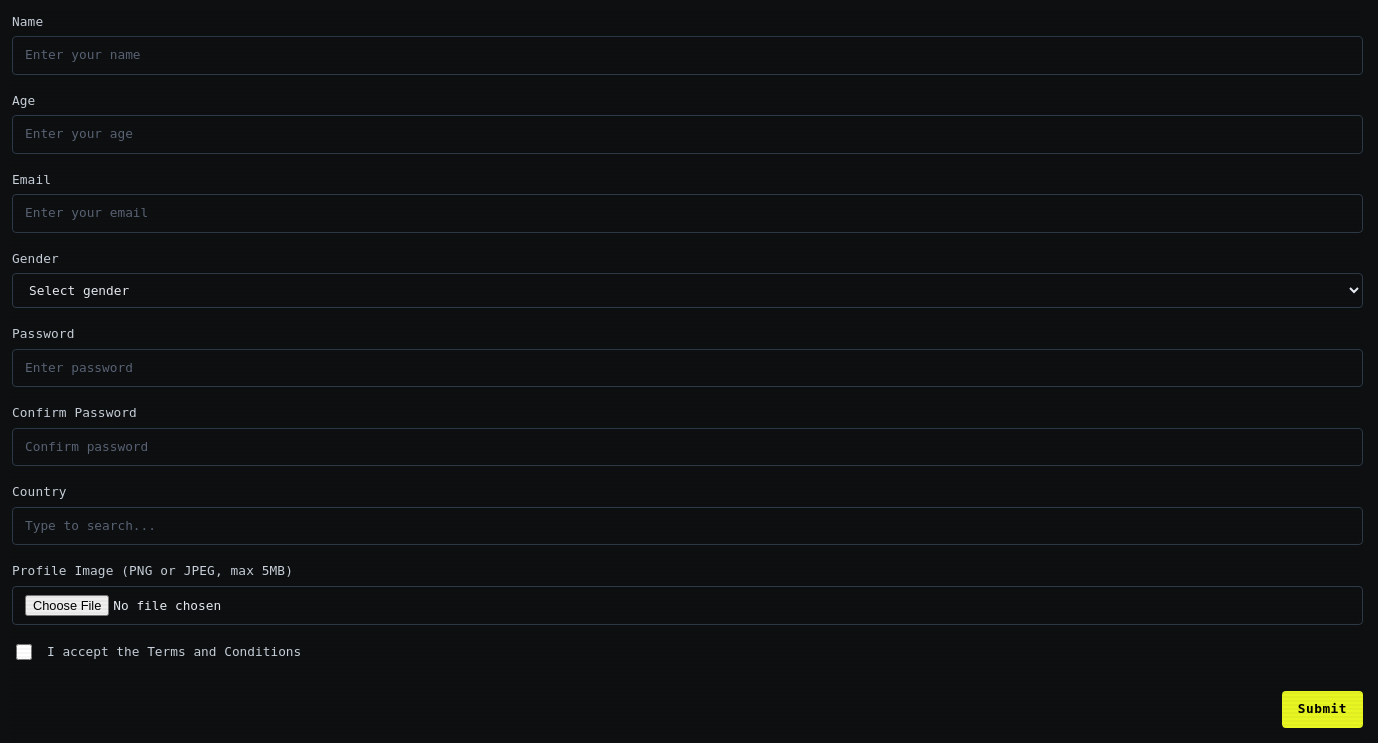
Test case: UncontrolledForm › shows validation errors on empty submit
Click the button "Submit".
click(1322, 709)  # box [1282,691,1363,728]
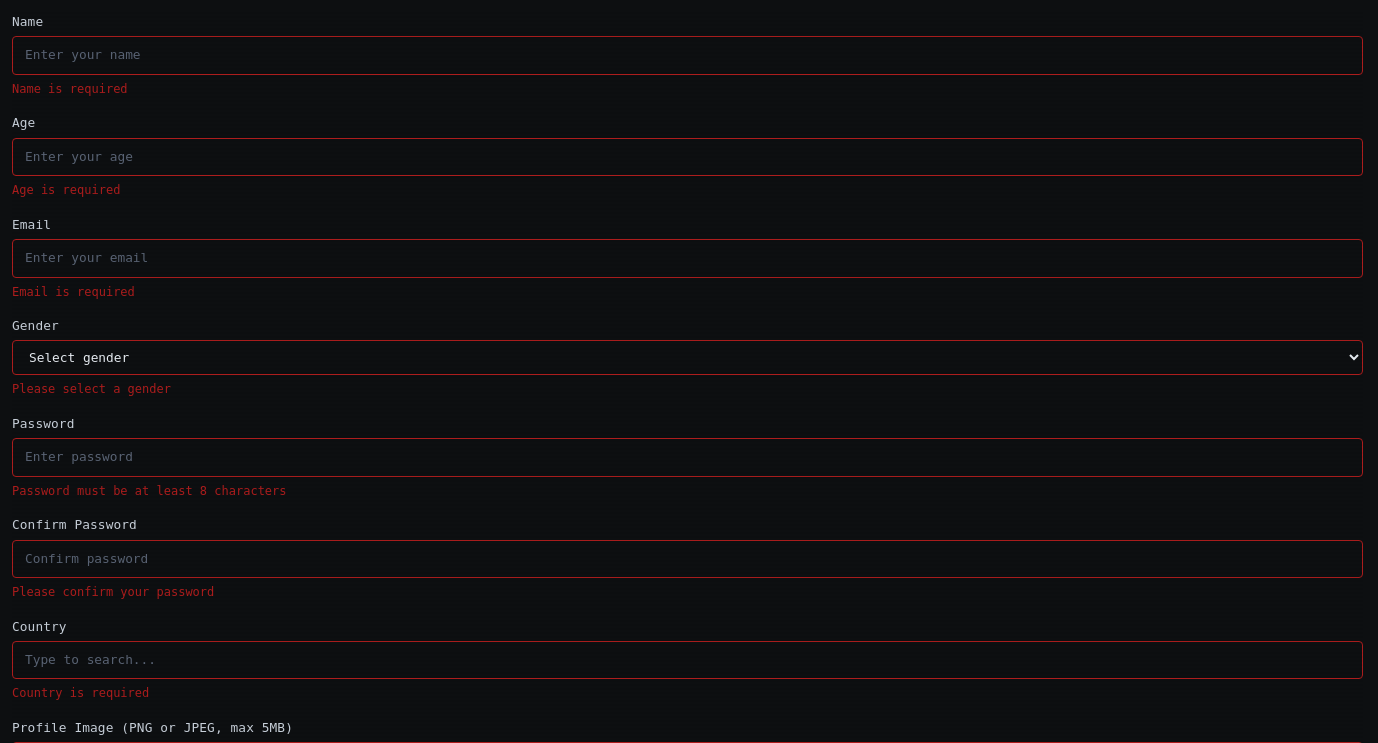
Expected: the text "Name is required" is shown, [12,82,128,96]
